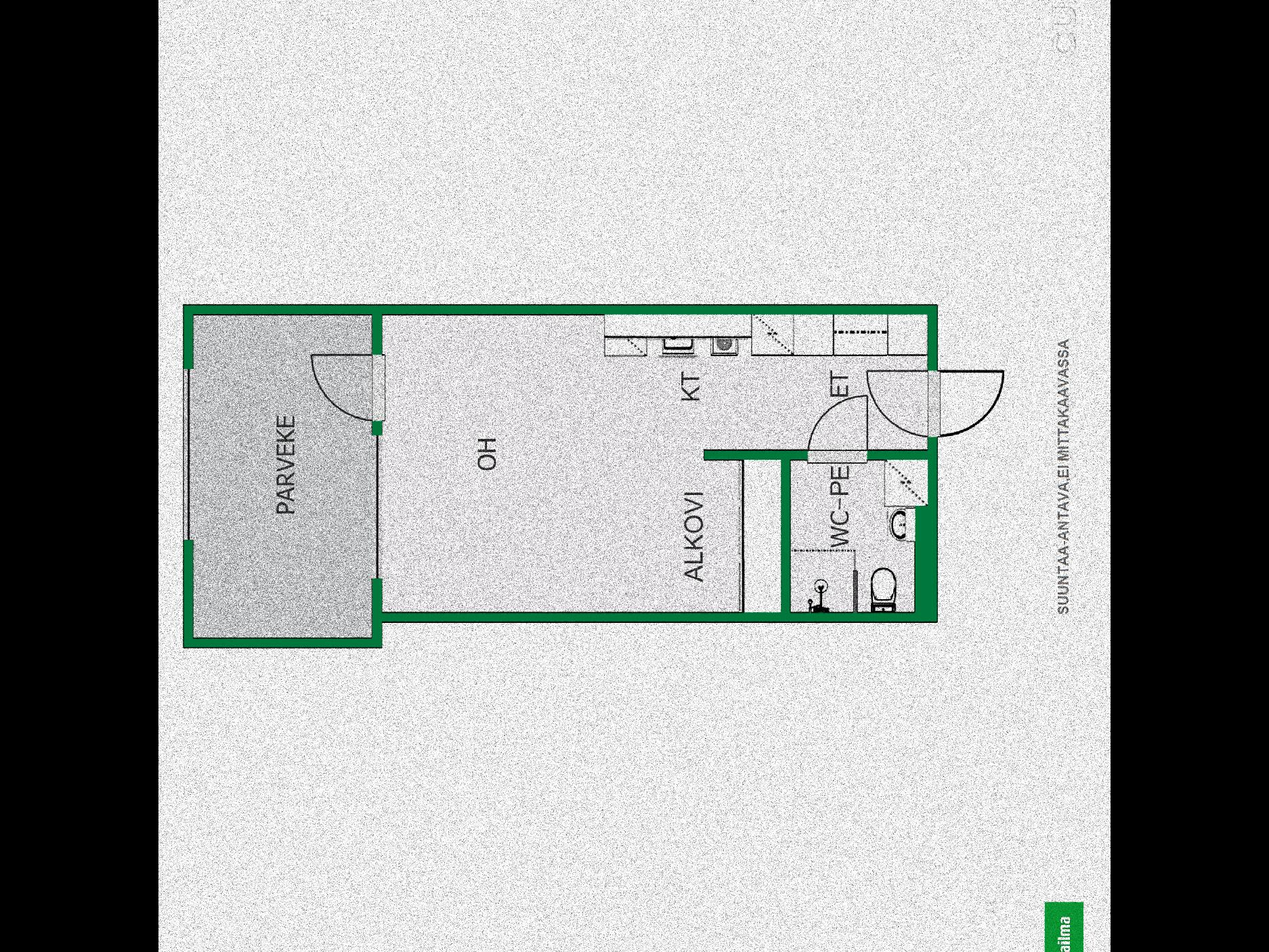door: (859, 359, 1014, 439), (297, 347, 391, 427), (802, 388, 874, 470)
window: (370, 432, 389, 582)
zone: (385, 311, 928, 611), (194, 313, 372, 635), (792, 465, 925, 613)
